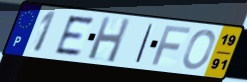1: (31, 9, 58, 54)
E: (53, 14, 97, 57)
F: (149, 24, 192, 67)
H: (86, 15, 132, 65)
I: (133, 23, 155, 65)
O: (180, 29, 217, 71)
